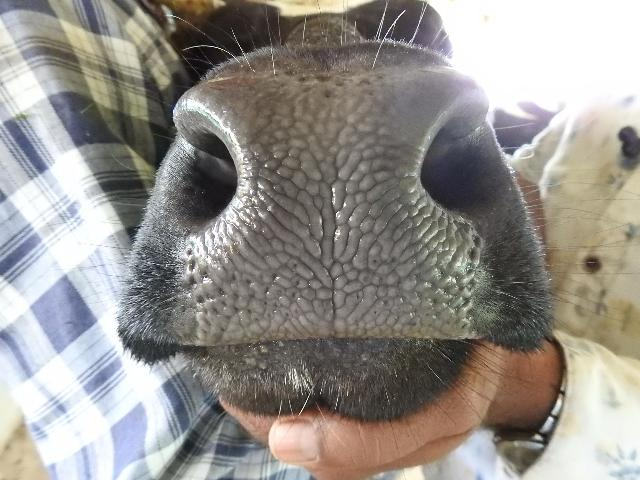Muzzle: (184, 75, 486, 357)
